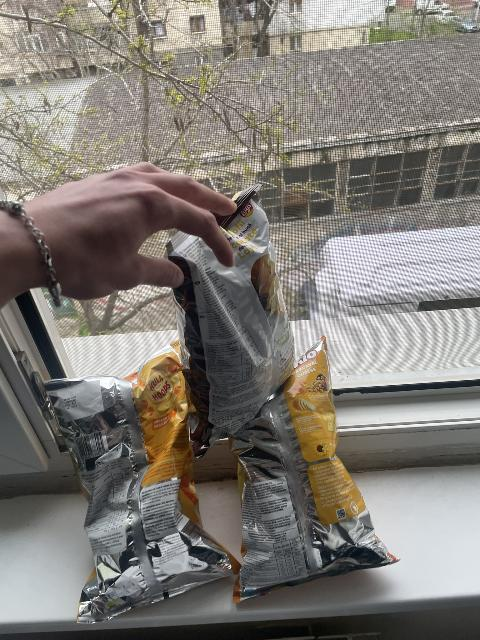Chio Cascaval 125g: (218, 331, 400, 605)
Chio Hula Hoops Cheese 70g: (47, 354, 243, 623)
Lays Beef Grilled Ribs 125g: (166, 200, 298, 457)
